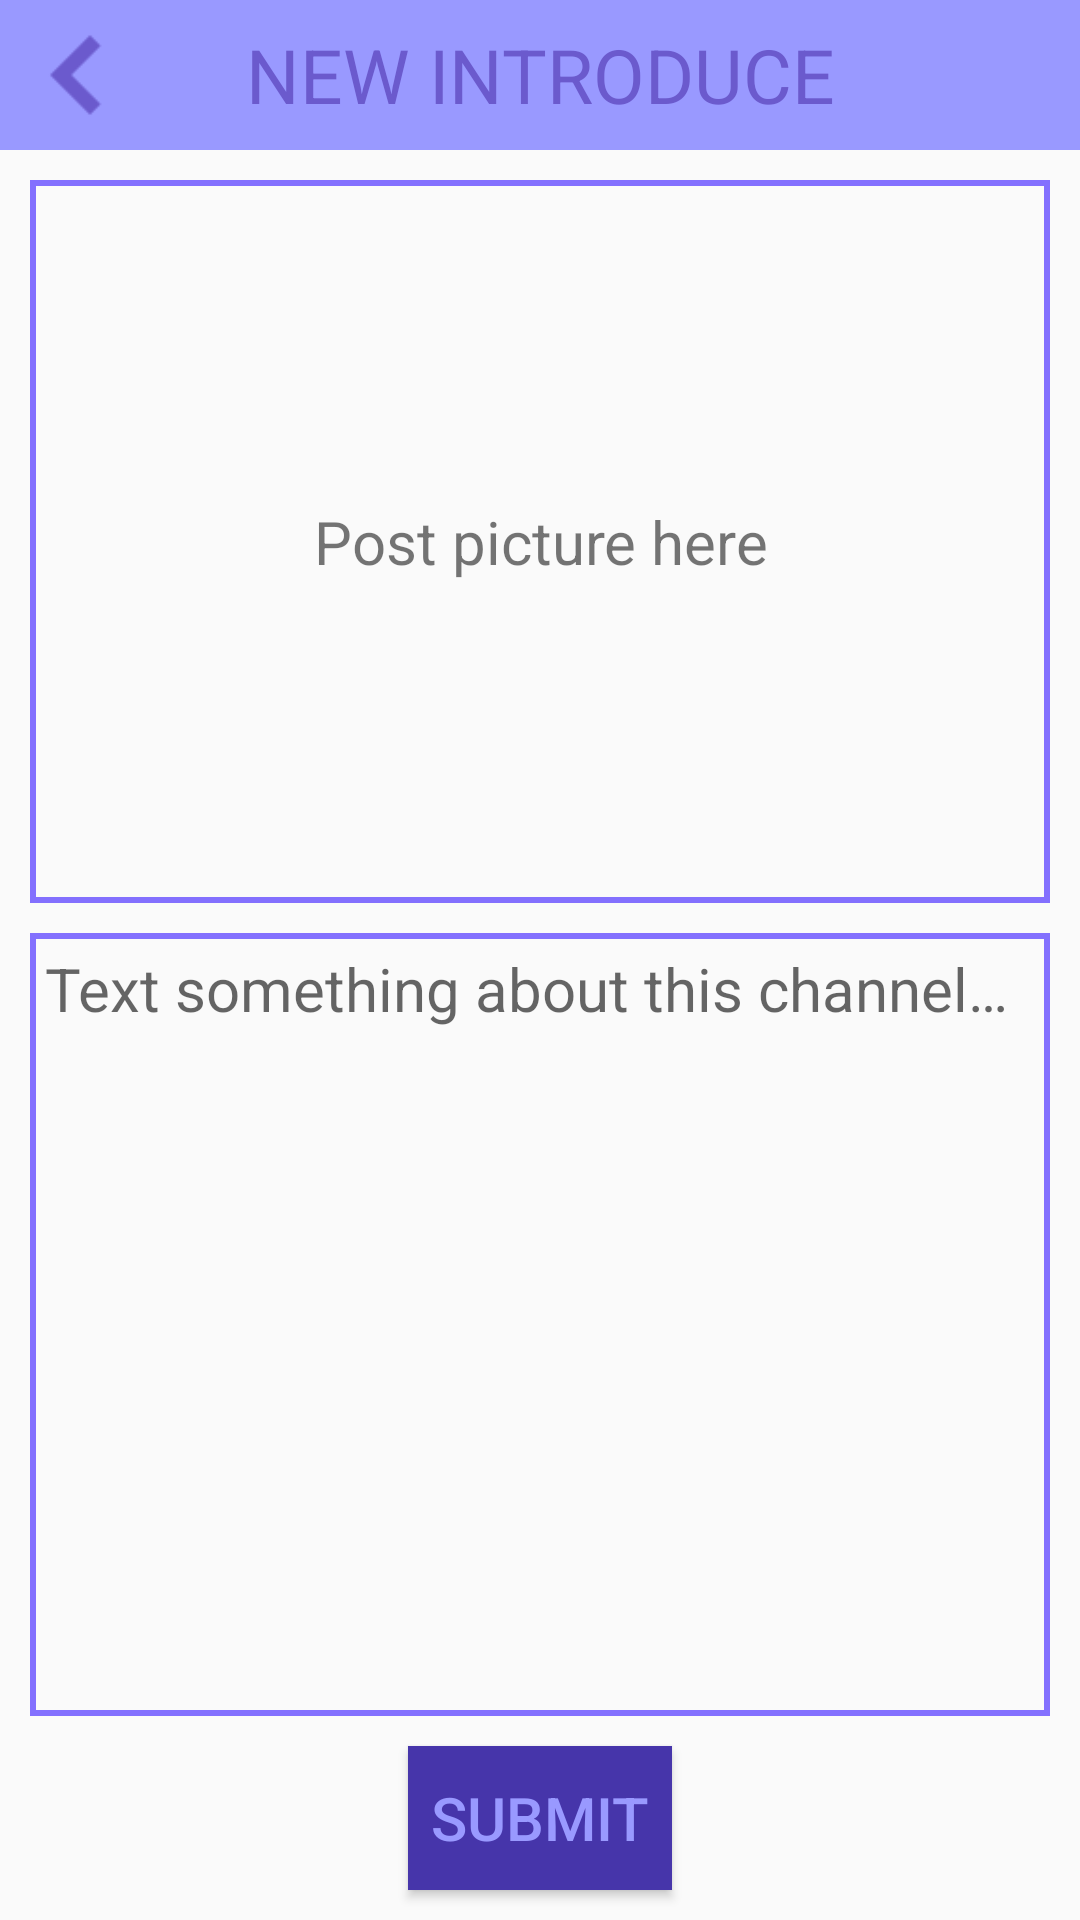

Icon click points for this 1080px×1920px phone screenshot, format [x,y]:
back: [75,75]
